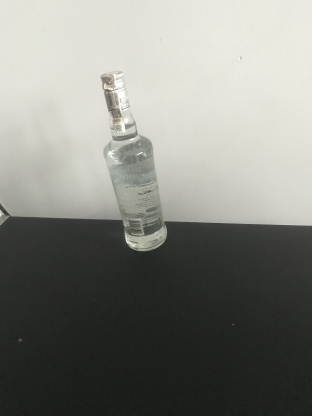nakretka: (99, 68, 131, 112)
